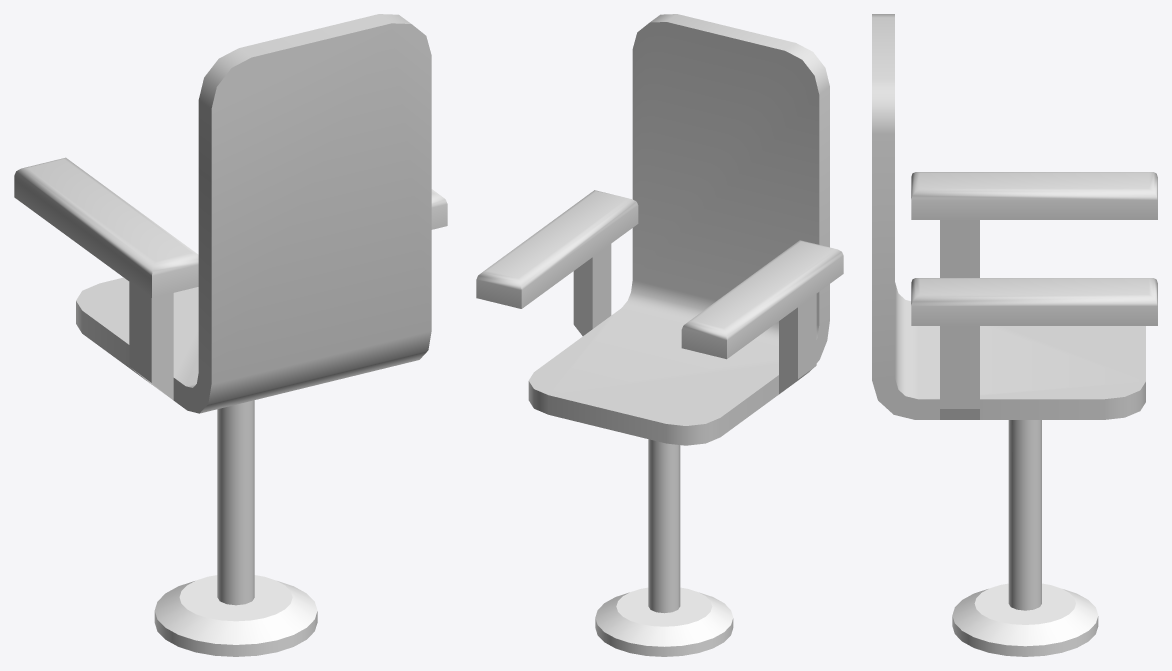
File: Furn_Chair.fbx
The picture shows the model from 3 angles, left to right: view 1: azimuth 30°, elevation 25°; view 2: azimuth 150°, elevation 25°; view 3: azimuth 270°, elevation 25°; orthographic projection. The views are drawn at different scales.
Parts seen in each view (by area): view 1: Furn_Chair; view 2: Furn_Chair; view 3: Furn_Chair.
Boxes of the visible parts, x1,y1,x2,y2 form: Furn_Chair: [14, 14, 447, 656]; Furn_Chair: [476, 14, 843, 656]; Furn_Chair: [872, 14, 1157, 656].
Size of the model in its own units: 0.6411 by 1.34 by 0.5988.
